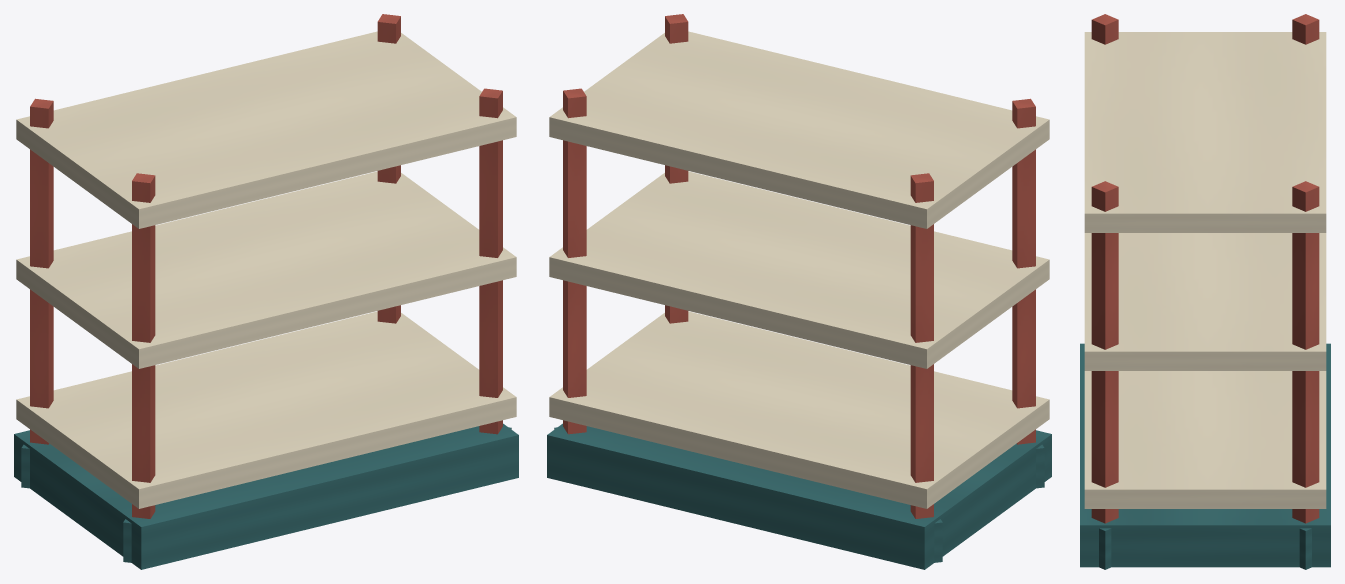
Rendered from atlas100-s037-a06.lod2.glb.
3 views of the same model, side by side, from view 1: azimuth 30°, elevation 25°; view 2: azimuth 150°, elevation 25°; view 3: azimuth 270°, elevation 25° (orthographic).
Parts seen in each view (by area): view 1: atlas100-s037-a06:part-013, atlas100-s037-a06:part-011, atlas100-s037-a06:part-012, atlas100-s037-a06:part-000, atlas100-s037-a06:part-005, atlas100-s037-a06:part-009, atlas100-s037-a06:part-003, atlas100-s037-a06:part-007; view 2: atlas100-s037-a06:part-013, atlas100-s037-a06:part-011, atlas100-s037-a06:part-012, atlas100-s037-a06:part-000, atlas100-s037-a06:part-003, atlas100-s037-a06:part-007, atlas100-s037-a06:part-005, atlas100-s037-a06:part-009; view 3: atlas100-s037-a06:part-013, atlas100-s037-a06:part-011, atlas100-s037-a06:part-012, atlas100-s037-a06:part-000, atlas100-s037-a06:part-007, atlas100-s037-a06:part-009, atlas100-s037-a06:part-003, atlas100-s037-a06:part-005, atlas100-s037-a06:part-008, atlas100-s037-a06:part-010.
Boxes of the visible parts, x1,y1,x2,y2 form: atlas100-s037-a06:part-013: (16, 31, 516, 228); atlas100-s037-a06:part-011: (16, 311, 516, 508); atlas100-s037-a06:part-012: (16, 171, 516, 368); atlas100-s037-a06:part-000: (14, 423, 518, 569); atlas100-s037-a06:part-005: (132, 173, 155, 518); atlas100-s037-a06:part-009: (479, 88, 502, 434); atlas100-s037-a06:part-003: (30, 98, 53, 444); atlas100-s037-a06:part-007: (377, 14, 400, 323); atlas100-s037-a06:part-013: (549, 31, 1049, 228); atlas100-s037-a06:part-011: (549, 311, 1049, 508); atlas100-s037-a06:part-012: (549, 171, 1049, 368); atlas100-s037-a06:part-000: (547, 423, 1051, 569); atlas100-s037-a06:part-003: (910, 173, 933, 518); atlas100-s037-a06:part-007: (563, 88, 586, 434); atlas100-s037-a06:part-005: (1012, 98, 1035, 444); atlas100-s037-a06:part-009: (665, 14, 688, 323); atlas100-s037-a06:part-013: (1084, 32, 1326, 232); atlas100-s037-a06:part-011: (1084, 371, 1326, 508); atlas100-s037-a06:part-012: (1084, 233, 1326, 370); atlas100-s037-a06:part-000: (1080, 343, 1330, 567); atlas100-s037-a06:part-007: (1292, 181, 1319, 523); atlas100-s037-a06:part-009: (1091, 181, 1118, 523); atlas100-s037-a06:part-003: (1292, 14, 1319, 44); atlas100-s037-a06:part-005: (1091, 14, 1118, 44); atlas100-s037-a06:part-008: (1299, 528, 1311, 569); atlas100-s037-a06:part-010: (1099, 528, 1111, 569).
Bounding box in the file's own units: 2.47 × 2.3 × 1.4.
3 materials, 3 textured.
